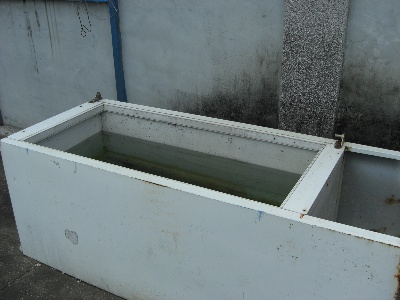box: (1, 98, 399, 300)
